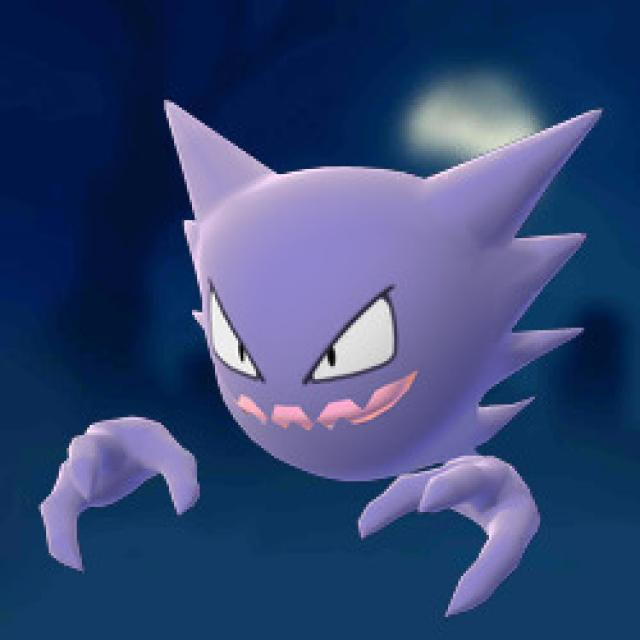Haunter: (116, 141, 578, 557)
